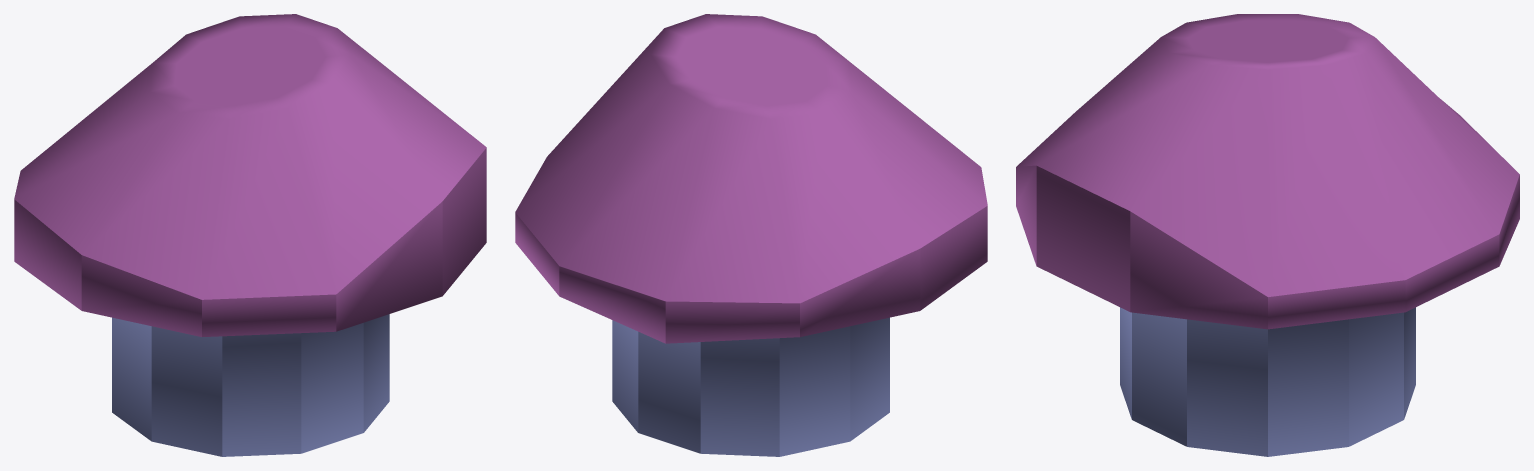
The model's file is mushroom_1.fbx.
The picture shows the model from 3 angles, left to right: view 1: azimuth 30°, elevation 25°; view 2: azimuth 150°, elevation 25°; view 3: azimuth 270°, elevation 25°; orthographic projection. The views are drawn at different scales.
Visible parts, largest first — view 1: mushroom_01; view 2: mushroom_01; view 3: mushroom_01.
Part boxes in pixels (<box>): mushroom_01: <box>14,14,486,456</box>; mushroom_01: <box>515,14,987,456</box>; mushroom_01: <box>1016,14,1519,456</box>.
Bounding box in the file's own units: 1.84 × 1.51 × 1.86.
